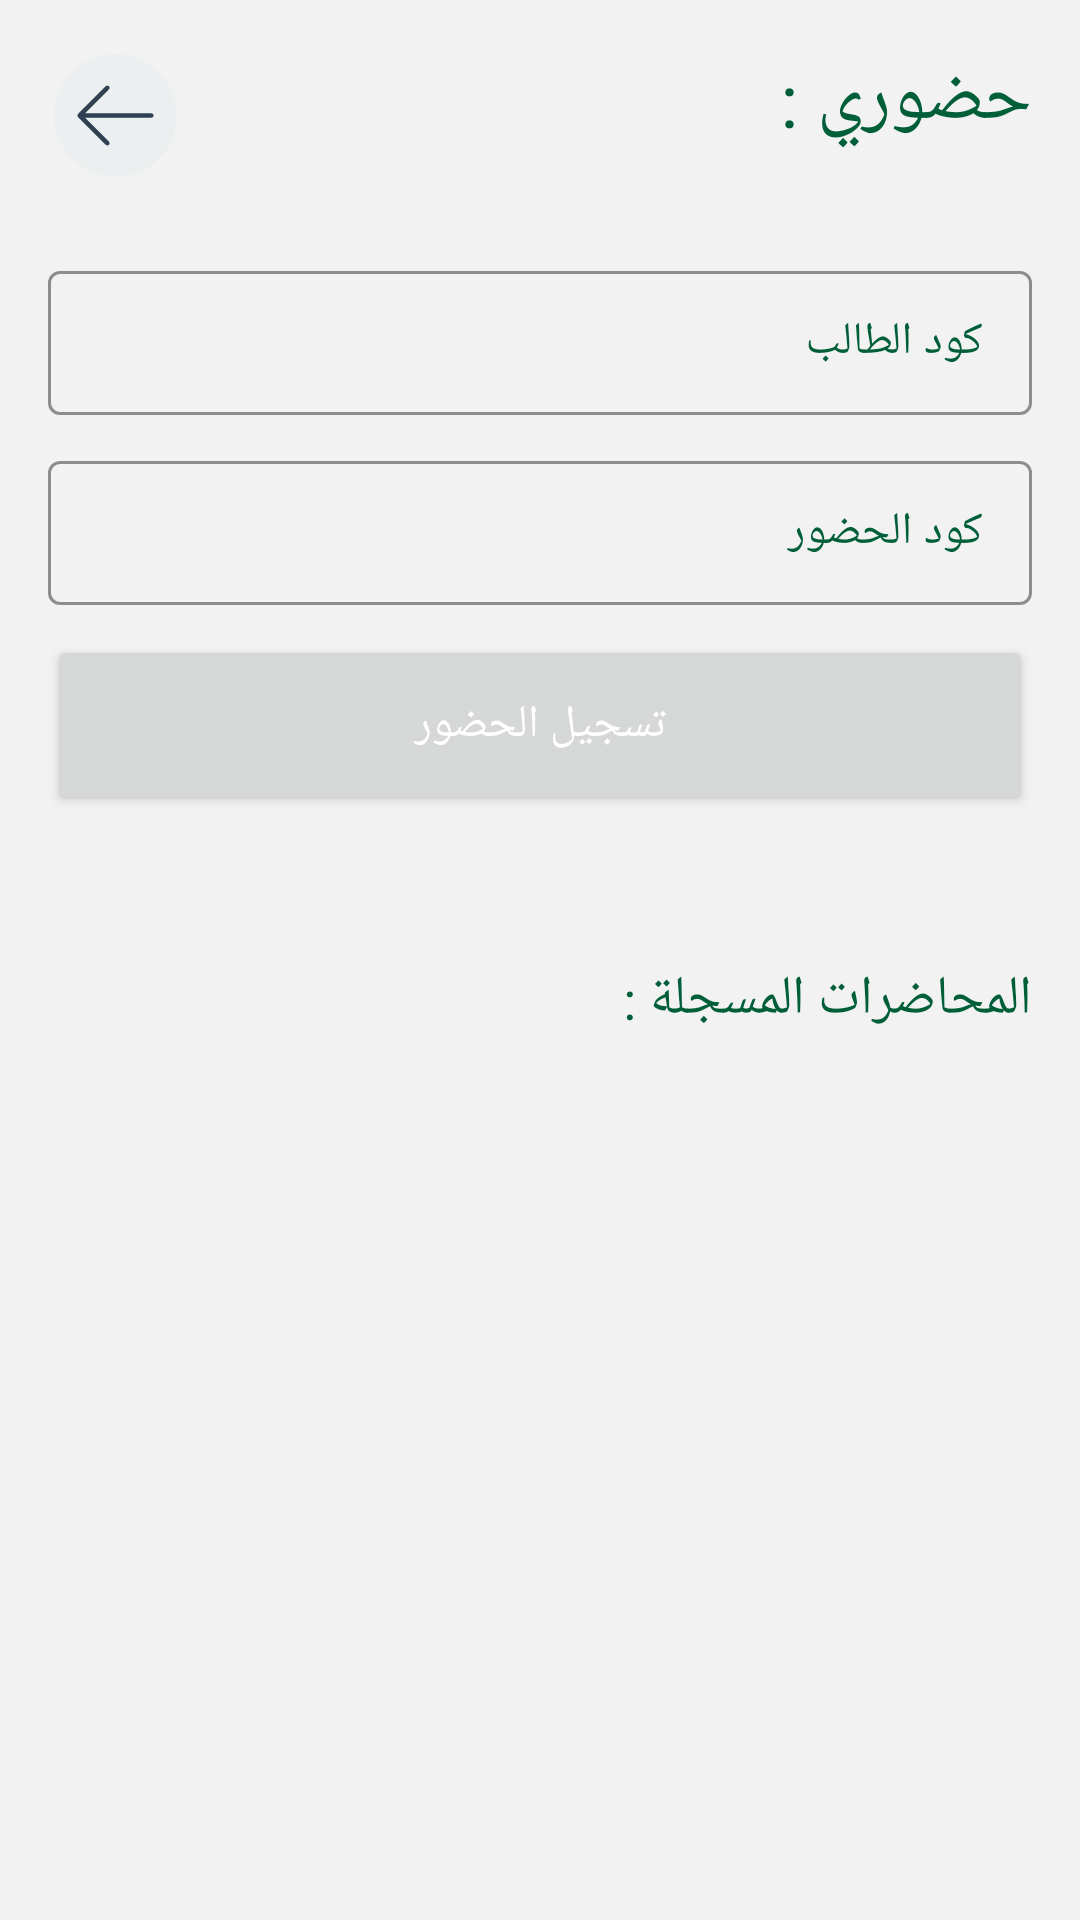

Point at icon controls on the screen. Image size 1080 × 1920, points as (x,y).
left arrow: (115,115)
